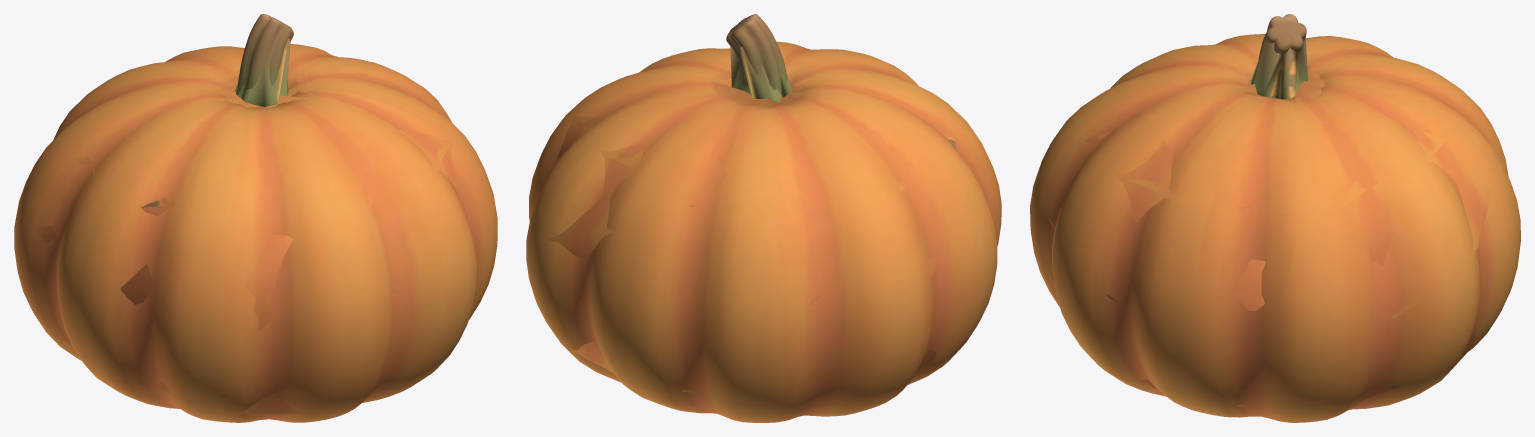
The model's file is g3d_pumpkin.glb.
3 views of the same model, side by side, from view 1: azimuth 30°, elevation 25°; view 2: azimuth 150°, elevation 25°; view 3: azimuth 270°, elevation 25° (orthographic). The views are drawn at different scales.
Parts seen in each view (by area): view 1: pumpkin_body, pumpkin_body_lo; view 2: pumpkin_body, pumpkin_body_lo; view 3: pumpkin_body, pumpkin_body_lo.
Part boxes in pixels (x1,y1,x2,y2): pumpkin_body: (14, 14, 497, 422); pumpkin_body_lo: (34, 25, 456, 416); pumpkin_body: (526, 14, 1001, 422); pumpkin_body_lo: (545, 27, 989, 392); pumpkin_body: (1030, 14, 1520, 422); pumpkin_body_lo: (1048, 24, 1494, 406).
Size of the model in its own units: 0.3431 by 0.2757 by 0.3426.
1 material, 1 textured.
